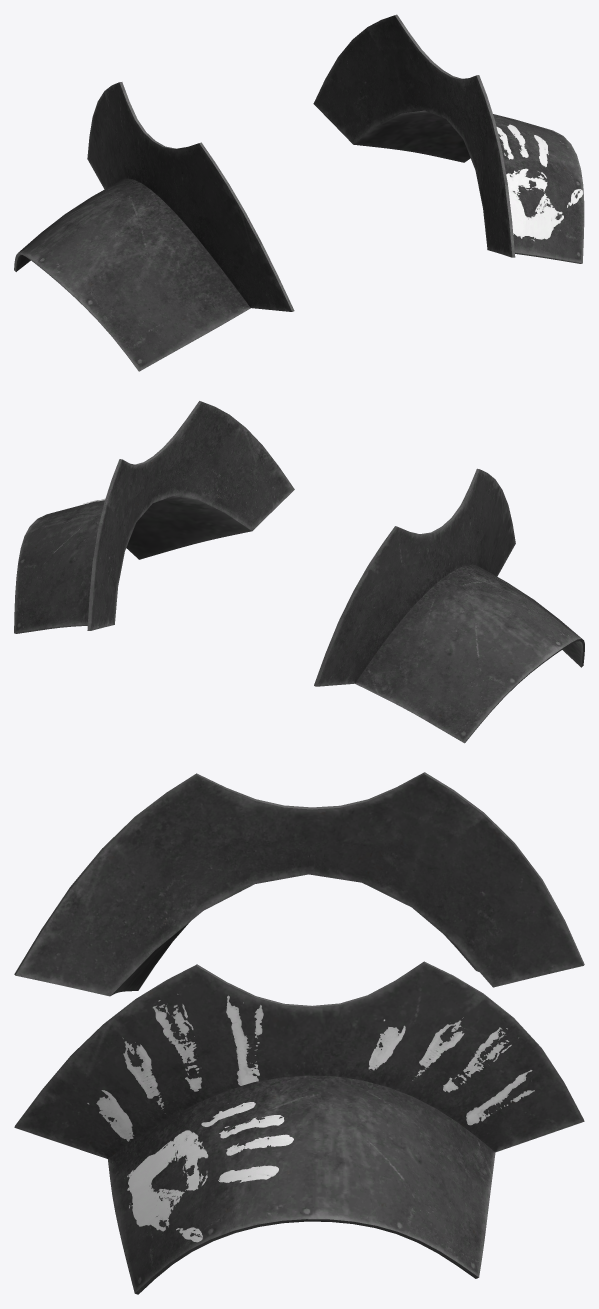
The model's file is sk_uruk_hai_pauldron_med_a3.fbx.
The picture shows the model from 3 angles, top to bottom: view 1: azimuth 30°, elevation 25°; view 2: azimuth 150°, elevation 25°; view 3: azimuth 270°, elevation 25°; orthographic projection. The views are drawn at different scales.
Visible parts, largest first — view 1: sk_uruk_hai_pauldron_med_a3.0, sk_uruk_hai_pauldron_med_a3.1; view 2: sk_uruk_hai_pauldron_med_a3.0; view 3: sk_uruk_hai_pauldron_med_a3.0, sk_uruk_hai_pauldron_med_a3.1.
Part boxes in pixels (box(x1,y1,x2,y2)): sk_uruk_hai_pauldron_med_a3.0: box(14, 14, 584, 371); sk_uruk_hai_pauldron_med_a3.1: box(496, 124, 582, 241); sk_uruk_hai_pauldron_med_a3.0: box(14, 401, 584, 743); sk_uruk_hai_pauldron_med_a3.0: box(14, 772, 584, 1294); sk_uruk_hai_pauldron_med_a3.1: box(87, 994, 534, 1242).
Bounding box in the file's own units: 0.5963 × 0.3972 × 0.2113.
Materials: 2 (2 with a texture image).
